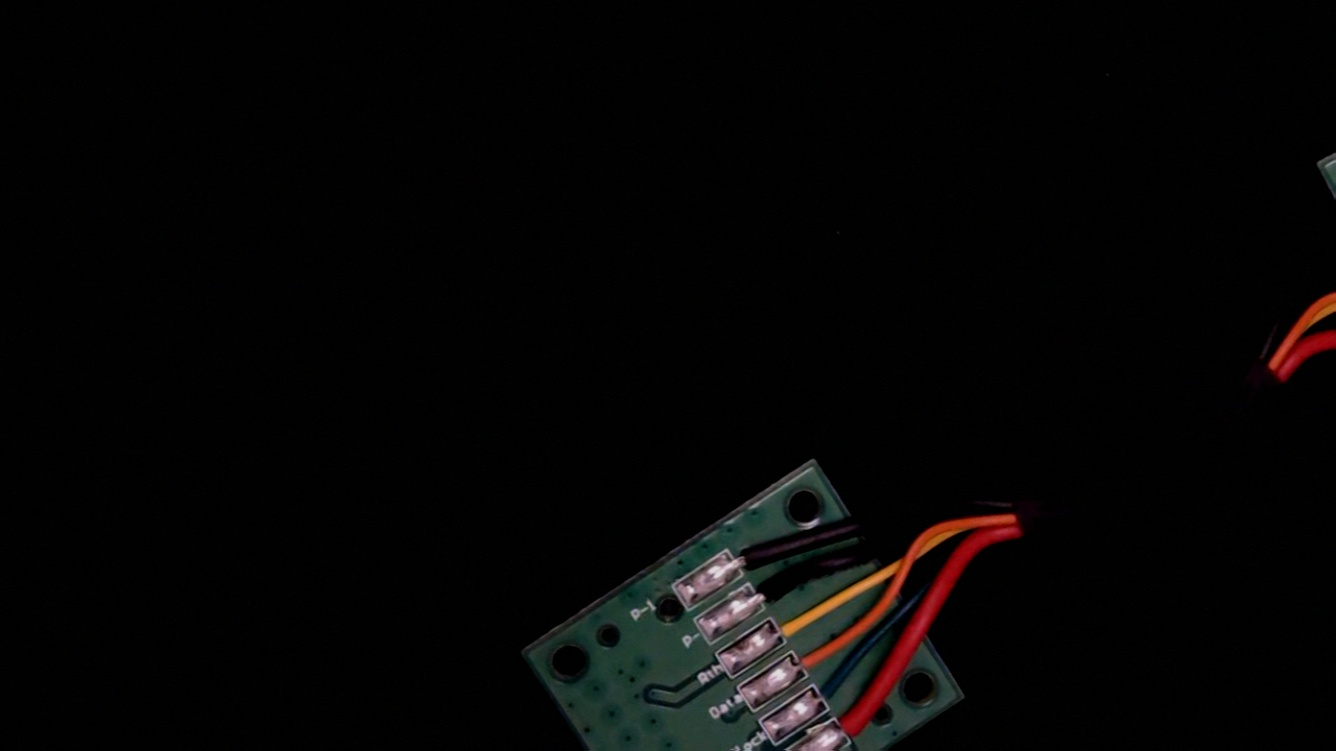Black: (727, 556, 811, 626)
Black1: (708, 525, 785, 590)
Green: (794, 658, 875, 725)
Orange: (771, 625, 853, 692)
Red: (816, 691, 897, 751)
Yellow: (752, 592, 836, 662)
